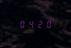four: (26, 20, 33, 28)
two: (34, 20, 41, 28)
zero: (18, 20, 25, 28), (42, 20, 49, 28)
